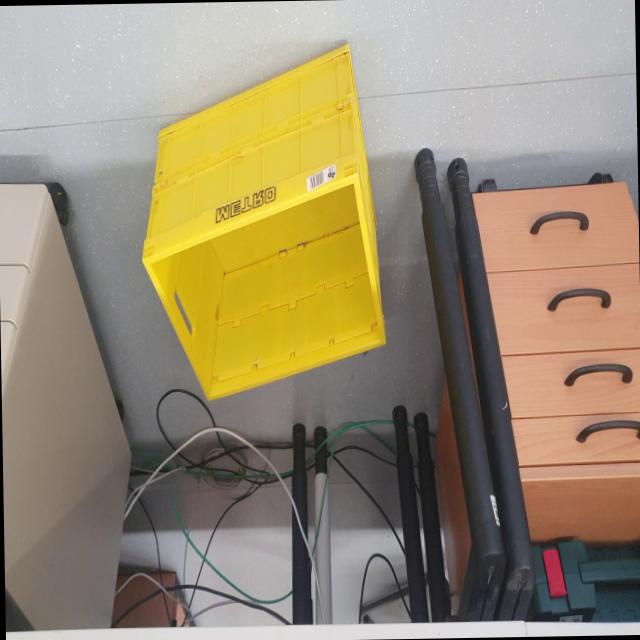box: (134, 22, 388, 411)
